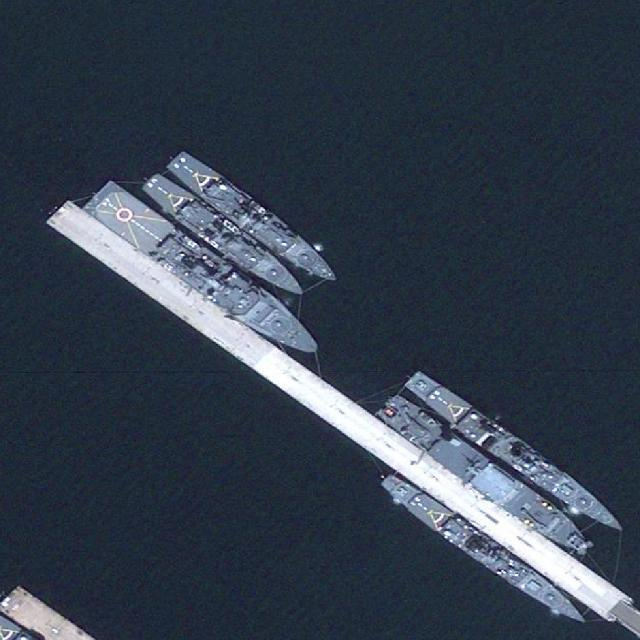Auxiliary Ships: (374, 389, 599, 564)
Destroyer: (403, 367, 630, 541), (376, 470, 595, 630), (163, 147, 349, 291), (139, 168, 314, 307)
Landing: (81, 175, 329, 368)
